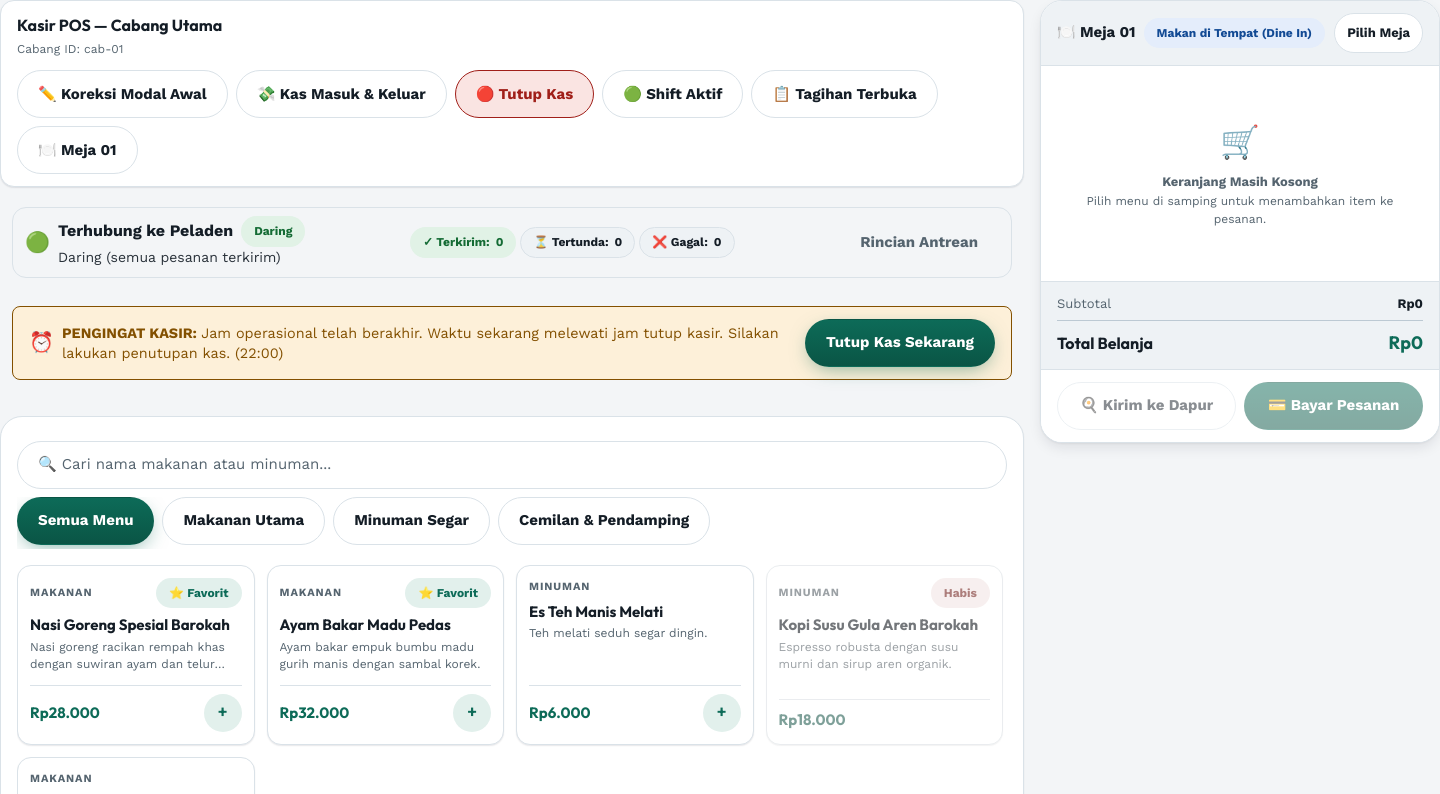
Test case: LayarKasir POS (T3-01 s/d T3-16) › menampilkan banner pengingat shift saat melewati jam tutup dan membuka modal Tutup Kas (T7-05)
Check: the message with test id "pengingat-shift" is shown, box [12, 306, 1012, 380]
// Klik tombol tutup kas di banner pengingat
Click the button "Tutup Kas Sekarang".
click(900, 343)  # box [805, 319, 995, 367]
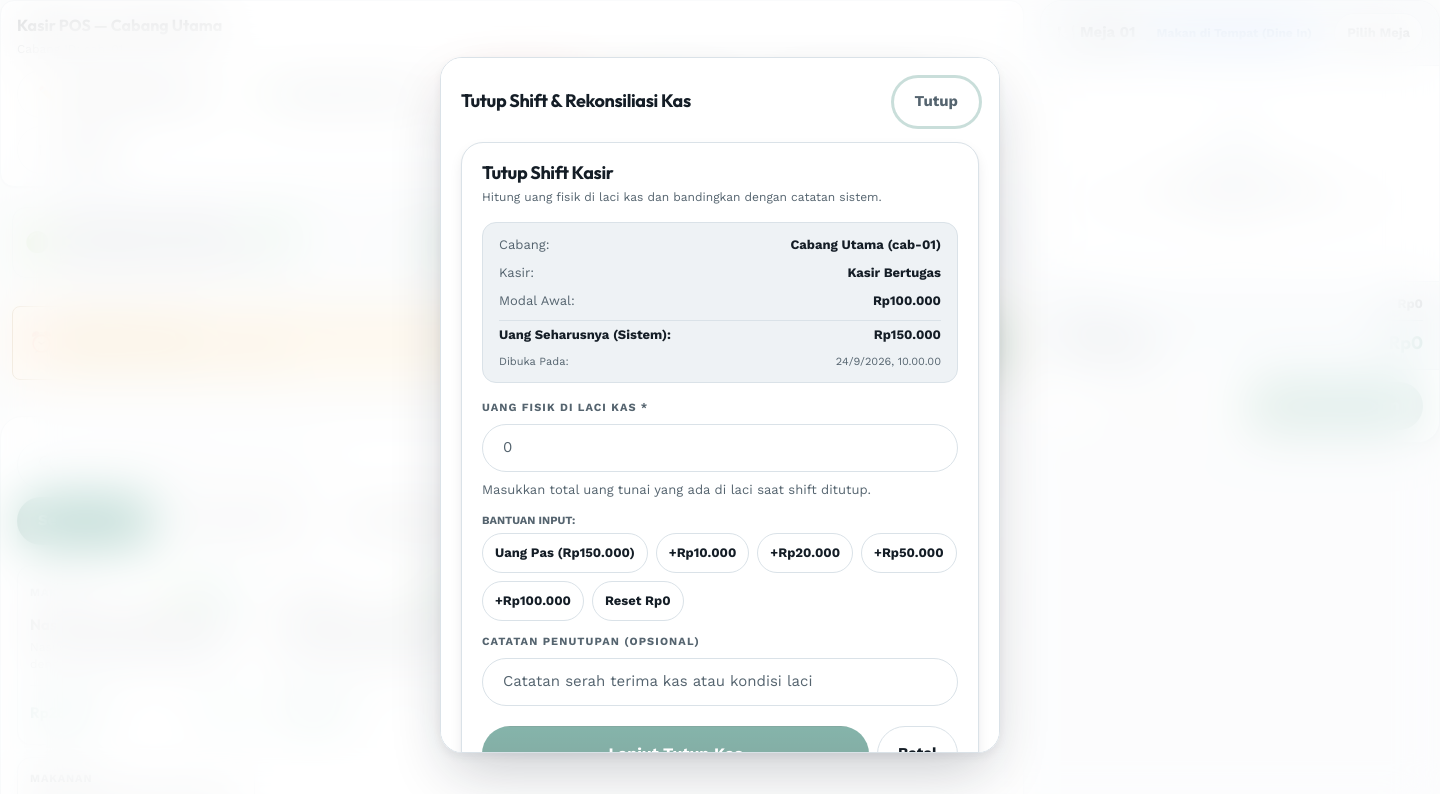
Check: the heading "Tutup Shift Kasir" is shown, box [482, 161, 613, 184]
